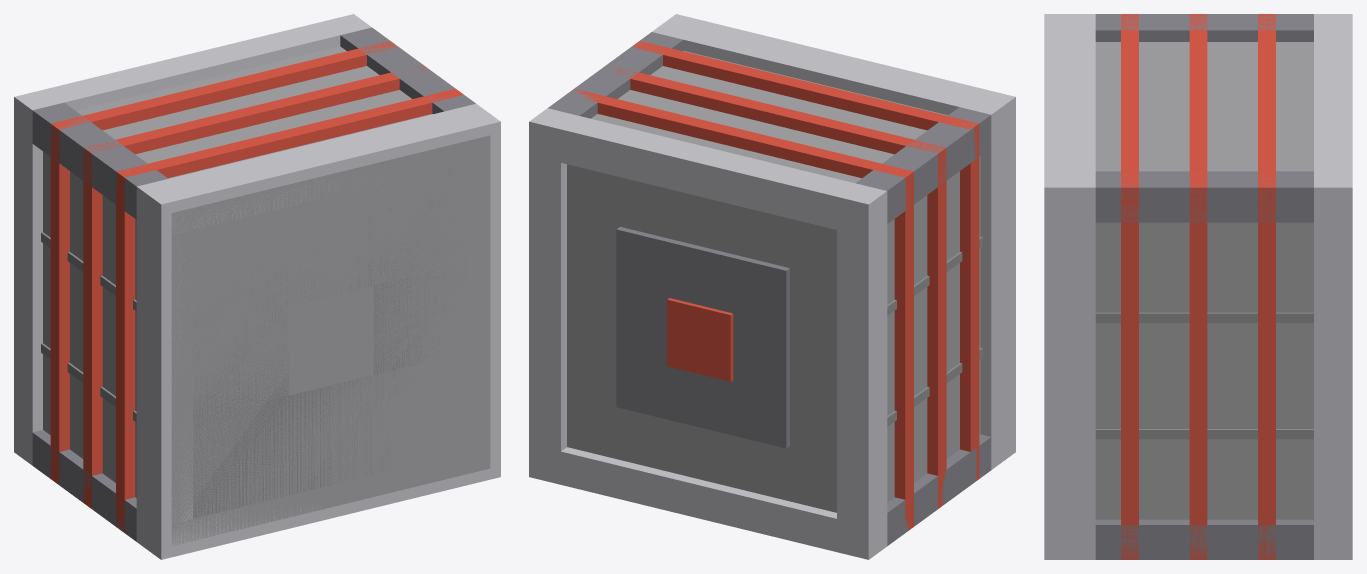
Rendered from piston_3_on.gltf.
3 views of the same model, side by side, from view 1: azimuth 30°, elevation 25°; view 2: azimuth 150°, elevation 25°; view 3: azimuth 270°, elevation 25° (orthographic). The views are drawn at different scales.
Parts seen in each view (by area): view 1: piston_3_on; view 2: piston_3_on; view 3: piston_3_on.
Boxes of the visible parts, x1,y1,x2,y2 form: piston_3_on: (14,14,500,559); piston_3_on: (529,14,1015,559); piston_3_on: (1044,14,1352,559).
Size of the model in its own units: 1 by 1 by 0.75.
